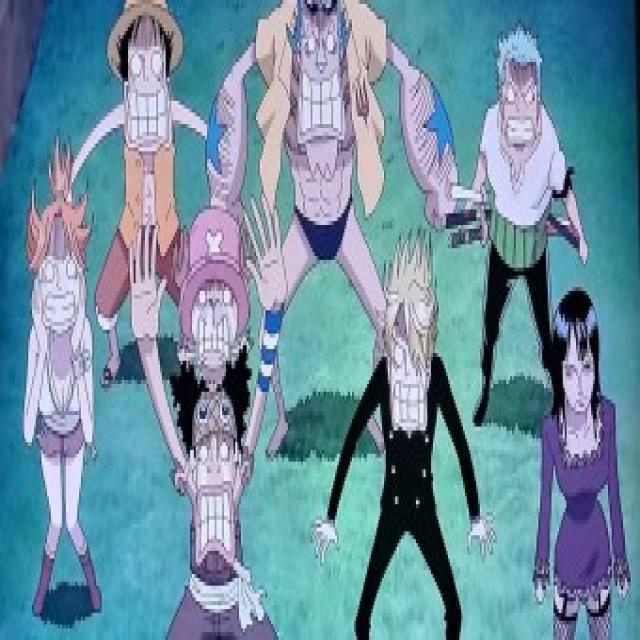Chyopa: (173, 193, 249, 385)
Franky: (283, 0, 351, 179)
Luffy: (107, 0, 181, 155)
Nami: (21, 180, 103, 357)
NicoRobin: (546, 278, 610, 457)
Sangdi: (375, 230, 445, 447)
Usopp: (177, 386, 255, 580)
Zoro: (490, 17, 544, 158)
